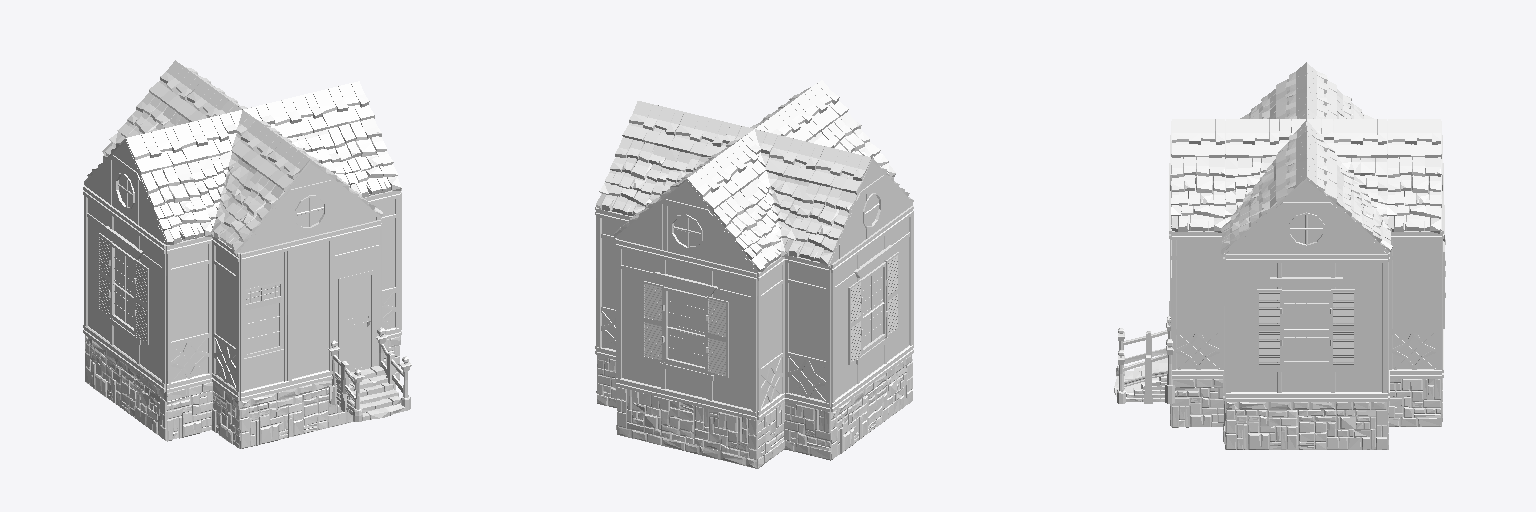
File: house_02.obj
3 views of the same model, side by side, from view 1: azimuth 30°, elevation 25°; view 2: azimuth 150°, elevation 25°; view 3: azimuth 270°, elevation 25° (orthographic).
Size of the model in its own units: 5.17 by 5.59 by 6.15.